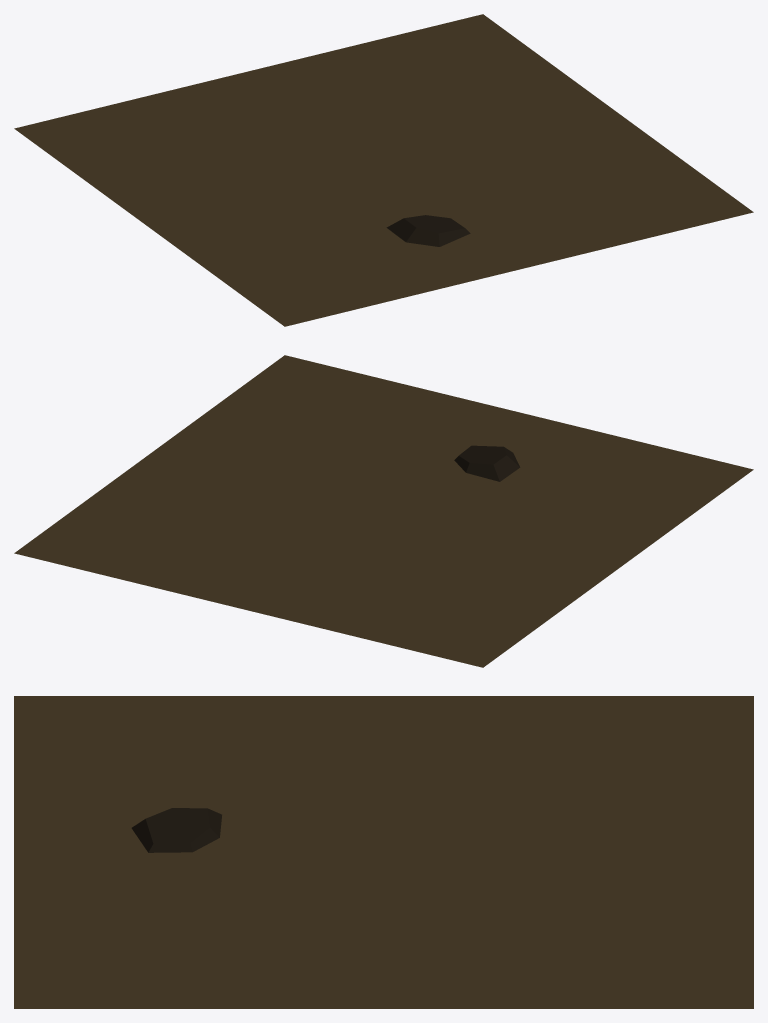
The model's file is Floor.009.fbx.
3 views of the same model, one above another, from view 1: azimuth 30°, elevation 25°; view 2: azimuth 150°, elevation 25°; view 3: azimuth 270°, elevation 25° (orthographic). The views are drawn at different scales.
Parts seen in each view (by area): view 1: Floor.009; view 2: Floor.009; view 3: Floor.009.
Part boxes in pixels (x1,y1,x2,y2): Floor.009: [14, 14, 753, 326]; Floor.009: [14, 355, 753, 667]; Floor.009: [14, 696, 753, 1008].
Bounding box in the file's own units: 100 × 4.71 × 100.
